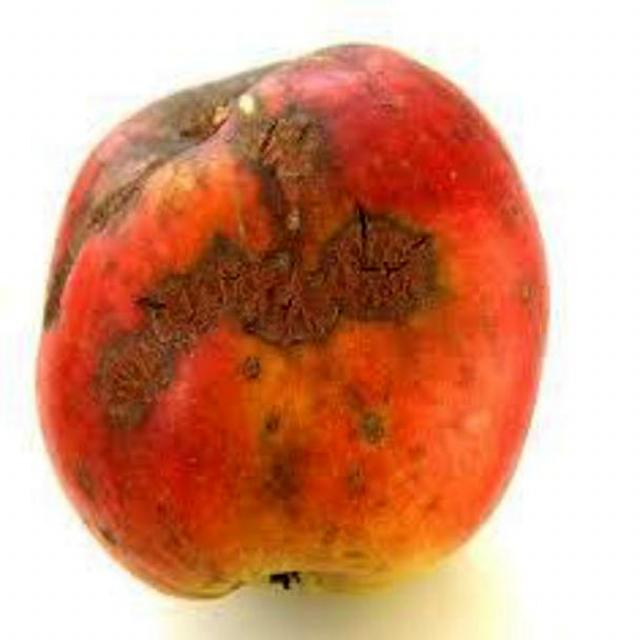SCAB: (66, 52, 558, 584)
